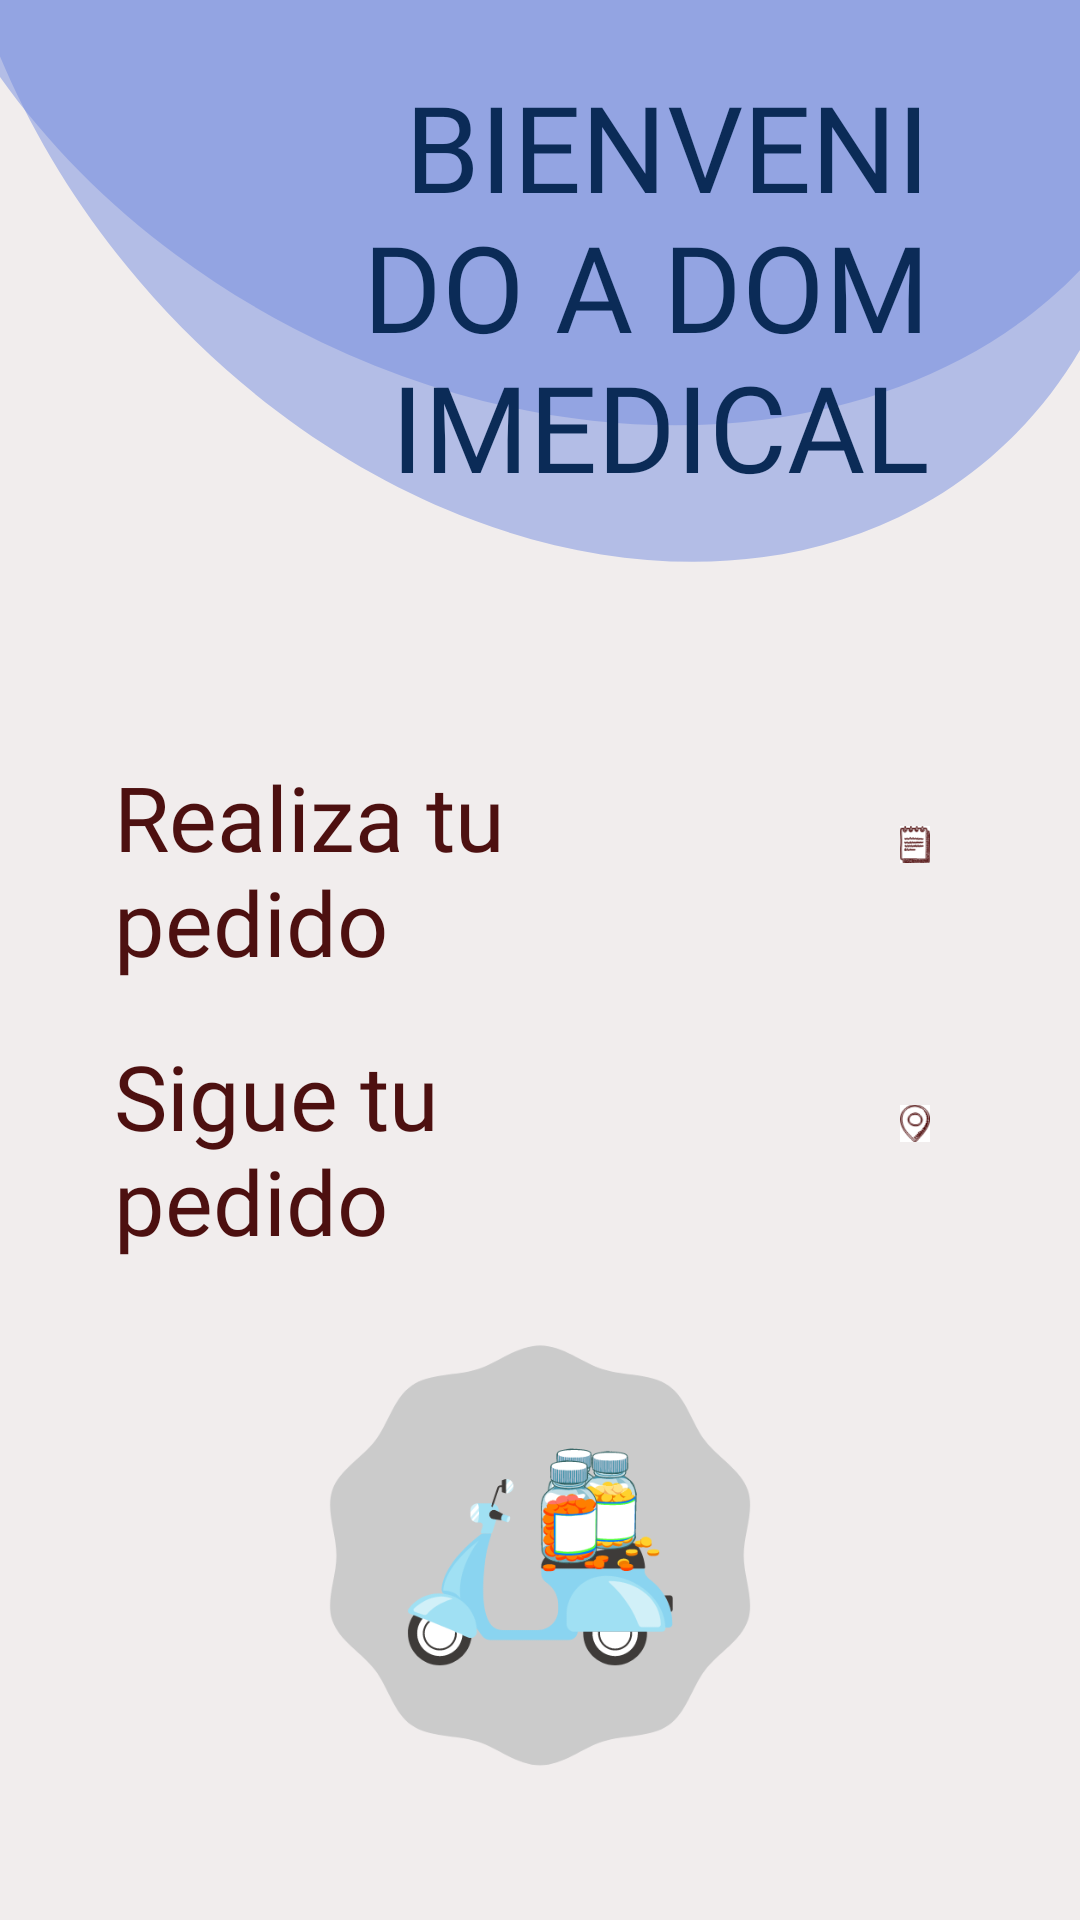

Screen size 1080px×1920px. Icon name, then its center in pixels as point (x, y):
lista: point (915, 844)
ubicacion: point (915, 1123)
